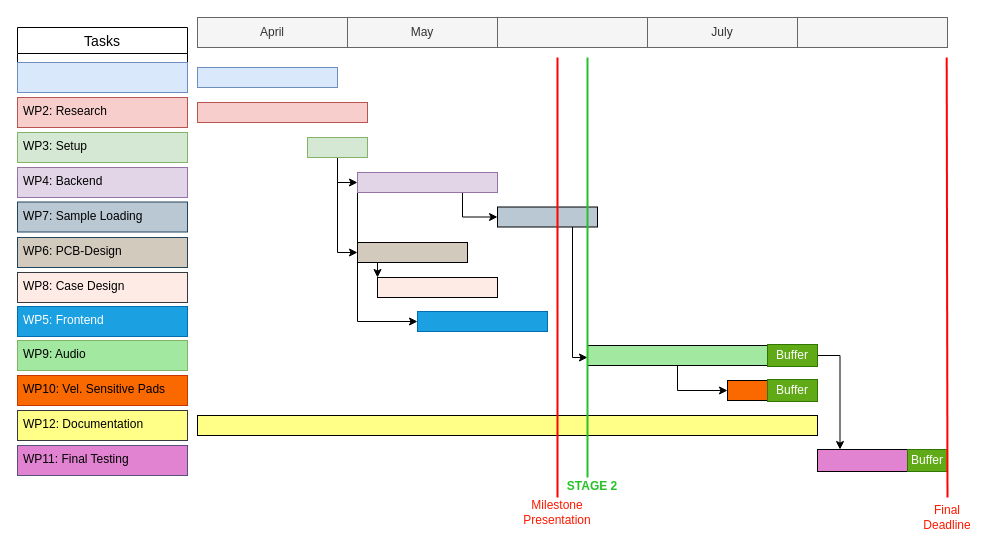
The diagram is 995 pixels wide and 555 high, and some of its shapes have lost their labels. The box of each missing label's shape, as (x1, y1, x2, y2) in pixels:
August: (796, 16, 948, 48)
June: (496, 16, 648, 48)
WP1: Organisation: (16, 62, 188, 92)
